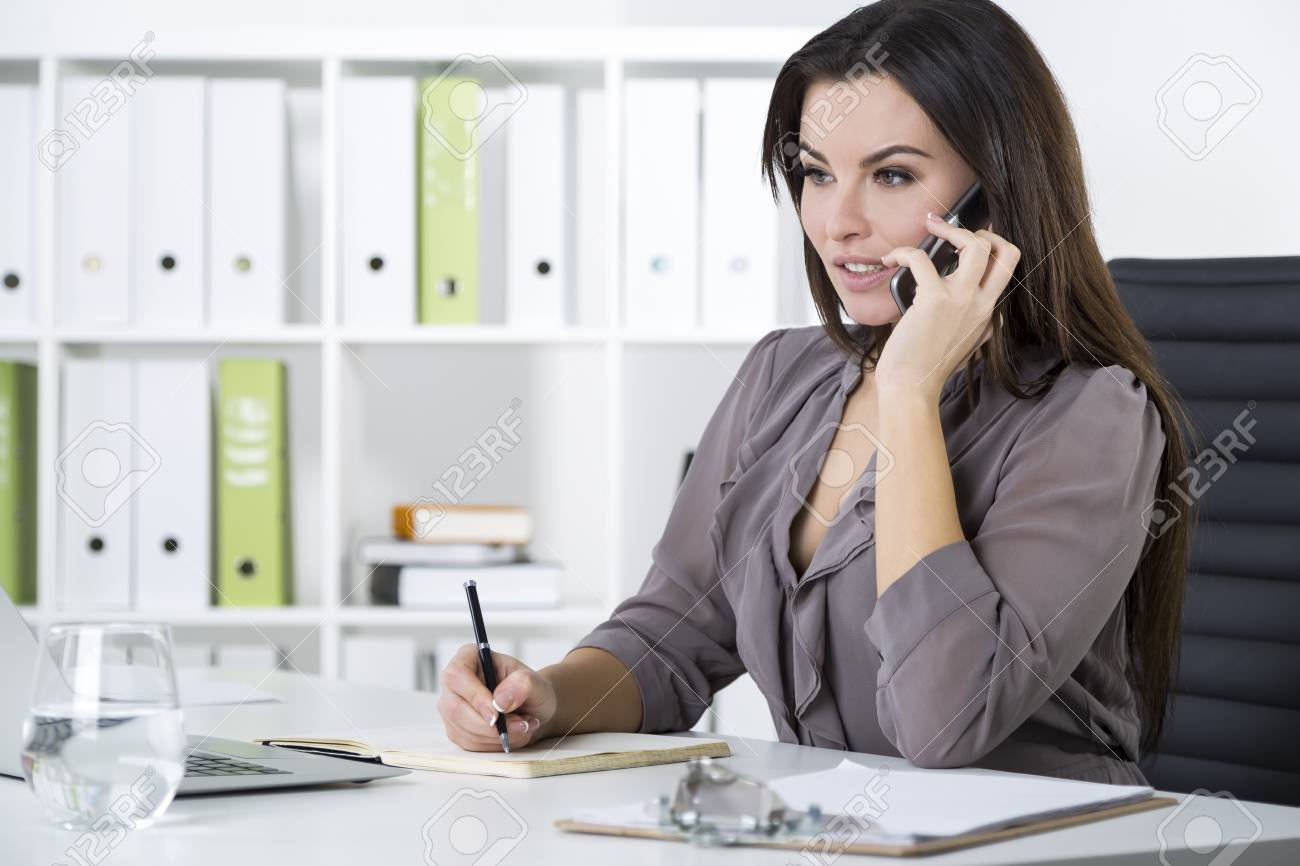phone: (871, 187, 1018, 342)
talk: (787, 138, 1036, 396)
